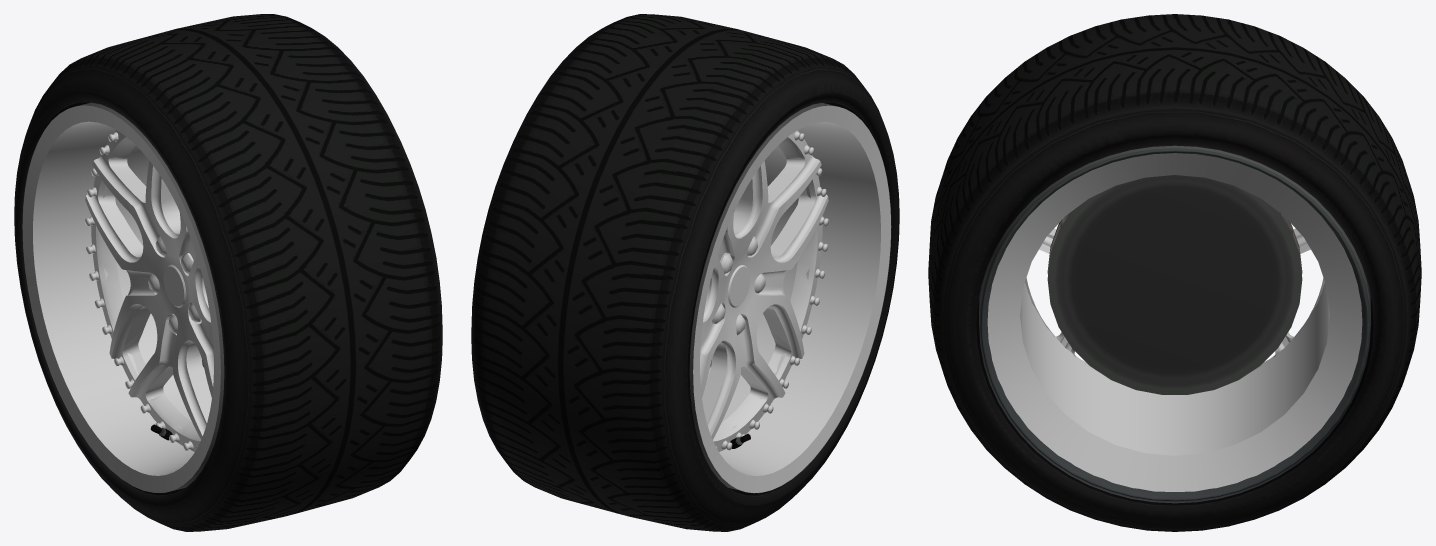
File: wheel_1.fbx
The picture shows the model from 3 angles, left to right: view 1: azimuth 30°, elevation 25°; view 2: azimuth 150°, elevation 25°; view 3: azimuth 270°, elevation 25°; orthographic projection.
Parts seen in each view (by area): view 1: wheel_hiend_11.001; view 2: wheel_hiend_11.001; view 3: wheel_hiend_11.001.
Part boxes in pixels (bbox=[...]): wheel_hiend_11.001: bbox=[14, 14, 442, 531]; wheel_hiend_11.001: bbox=[471, 14, 899, 531]; wheel_hiend_11.001: bbox=[928, 14, 1421, 531].
Bounding box in the file's own units: 50 × 99.41 × 99.41.
